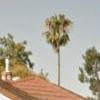Palm tree: (38, 9, 86, 84)
